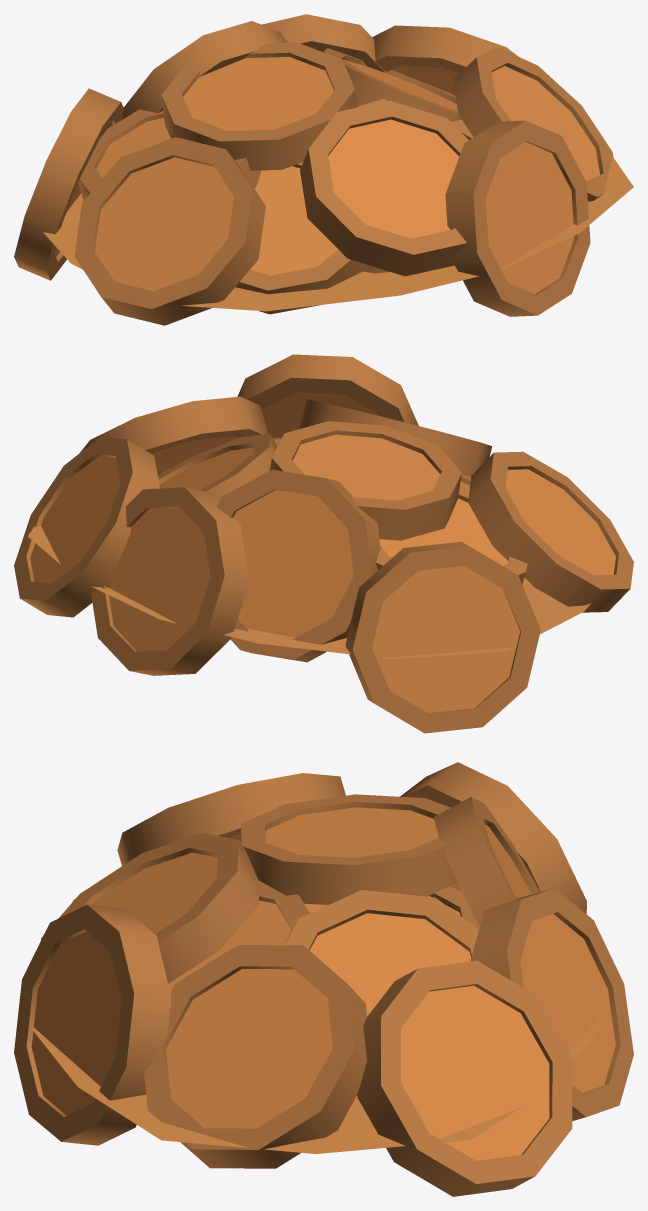
Rendered from Boot_01_Gold.fbx.
3 views of the same model, one above another, from view 1: azimuth 30°, elevation 25°; view 2: azimuth 150°, elevation 25°; view 3: azimuth 270°, elevation 25° (orthographic). The views are drawn at different scales.
Parts seen in each view (by area): view 1: Boot_01_Gold; view 2: Boot_01_Gold; view 3: Boot_01_Gold.
Part boxes in pixels (bbox=[...]): Boot_01_Gold: bbox=[14, 14, 633, 325]; Boot_01_Gold: bbox=[14, 354, 633, 733]; Boot_01_Gold: bbox=[14, 762, 633, 1196].
Bounding box in the file's own units: 0.1372 × 0.0516 × 0.1128.
